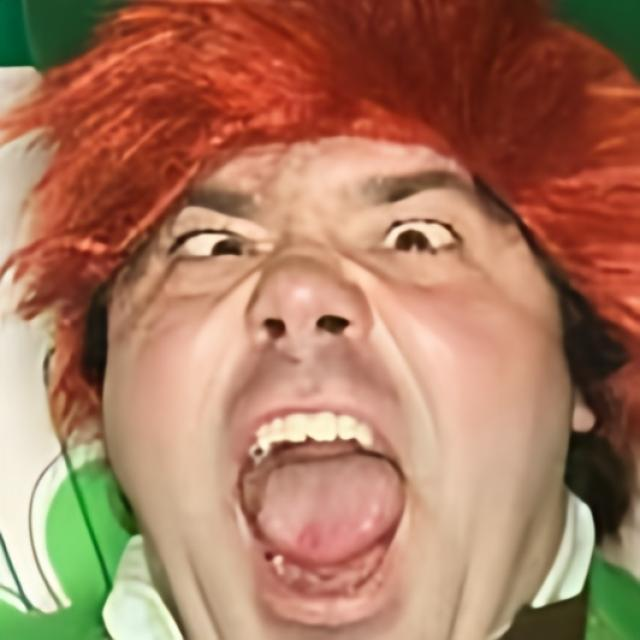anger: (102, 132, 565, 640)
